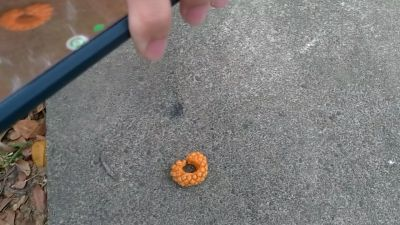eggs: (169, 151, 210, 188)
